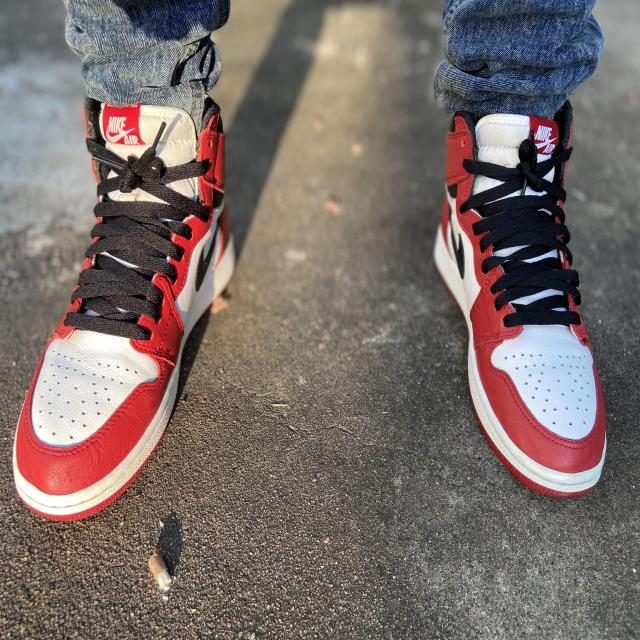shoe: (8, 91, 239, 522), (427, 94, 612, 504)
